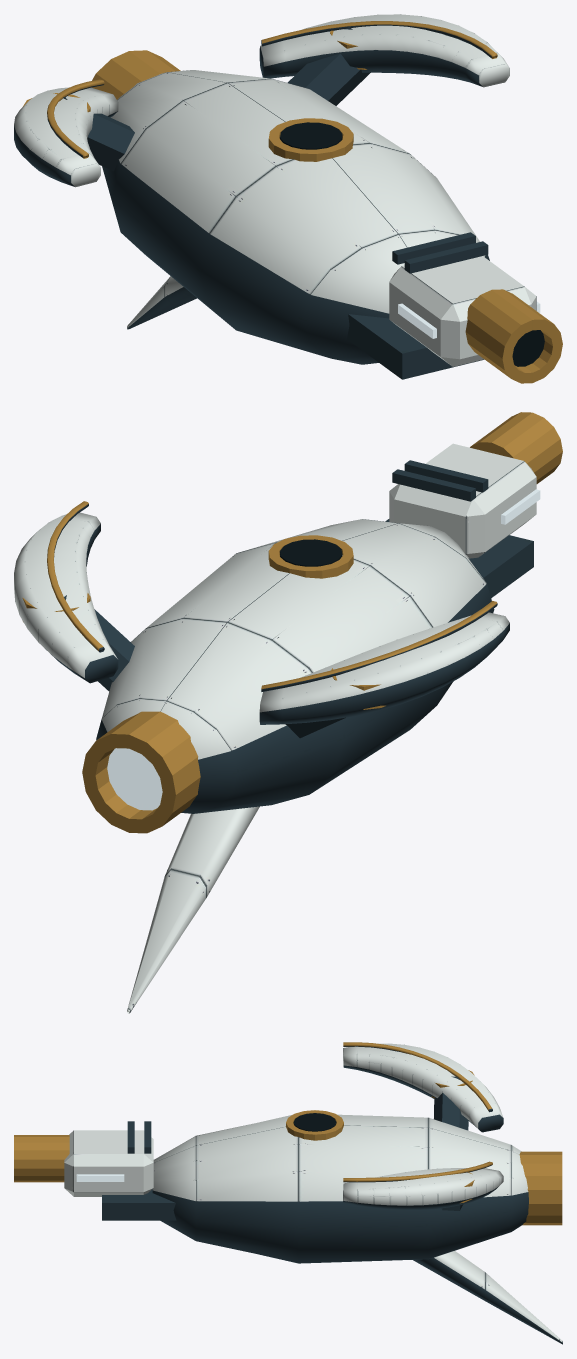
Rendered from pioneer-europa-l02-laser.glb.
The picture shows the model from 3 angles, top to bottom: view 1: azimuth 30°, elevation 25°; view 2: azimuth 150°, elevation 25°; view 3: azimuth 270°, elevation 25°; orthographic projection. The views are drawn at different scales.
Parts seen in each view (by area): view 1: Drone; view 2: Drone; view 3: Drone.
Part boxes in pixels (box(x1,y1,x2,y2)): Drone: box(14, 14, 562, 383); Drone: box(14, 412, 562, 1013); Drone: box(14, 1042, 562, 1344).
Bounding box in the file's own units: 0.9147 × 0.6652 × 1.42.
3 materials, 3 textured.
